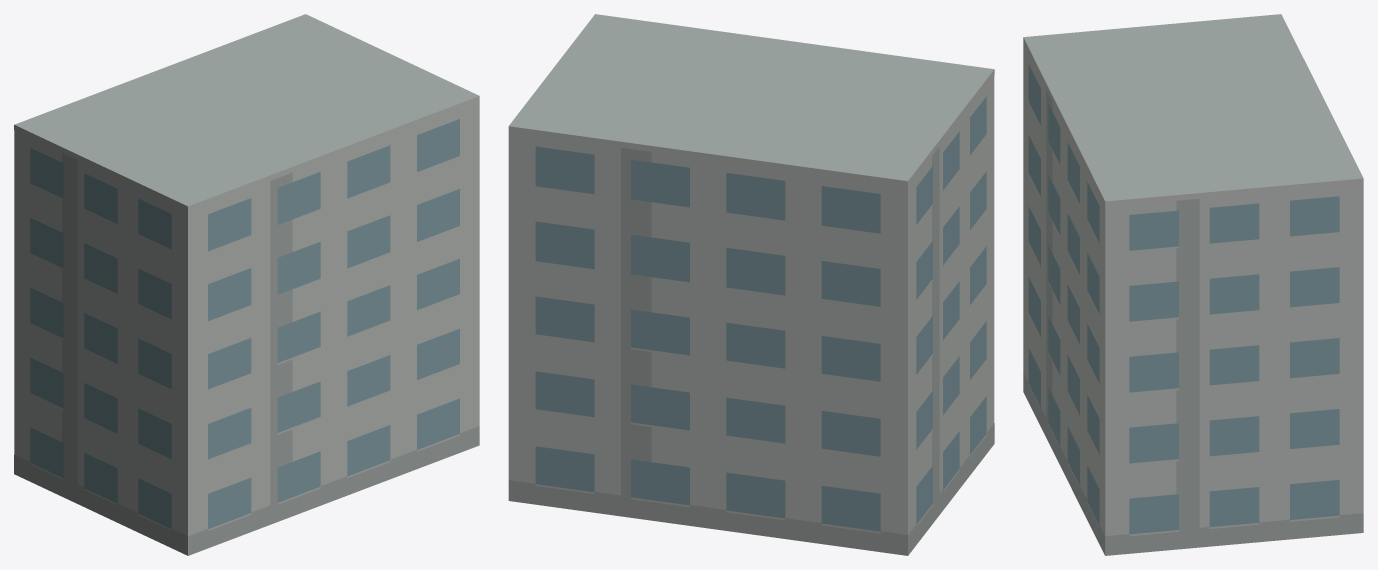
File: residential-49f7fb53-9f7d-4402-8e5f-ff79e06c9305.glb
3 renders of one model, left to right at view 1: azimuth 30°, elevation 25°; view 2: azimuth 150°, elevation 25°; view 3: azimuth 270°, elevation 25°, orthographic. The views are drawn at different scales.
Parts seen in each view (by area): view 1: residential-49f7fb53-9f7d-4402-8e5f-ff79e06c9305.tmp; view 2: residential-49f7fb53-9f7d-4402-8e5f-ff79e06c9305.tmp; view 3: residential-49f7fb53-9f7d-4402-8e5f-ff79e06c9305.tmp.
Part boxes in pixels (x1,y1,x2,y2): residential-49f7fb53-9f7d-4402-8e5f-ff79e06c9305.tmp: [14, 14, 479, 555]; residential-49f7fb53-9f7d-4402-8e5f-ff79e06c9305.tmp: [508, 14, 994, 555]; residential-49f7fb53-9f7d-4402-8e5f-ff79e06c9305.tmp: [1023, 14, 1363, 555].
Bounding box in the file's own units: 17.3 × 15.25 × 13.28.
